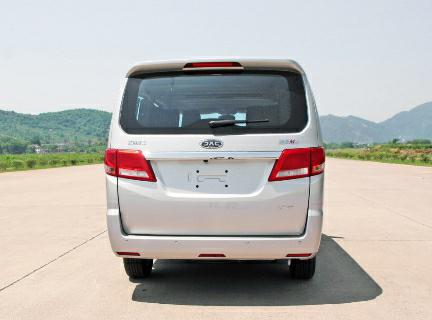江淮-瑞风M4: (99, 56, 332, 289)
